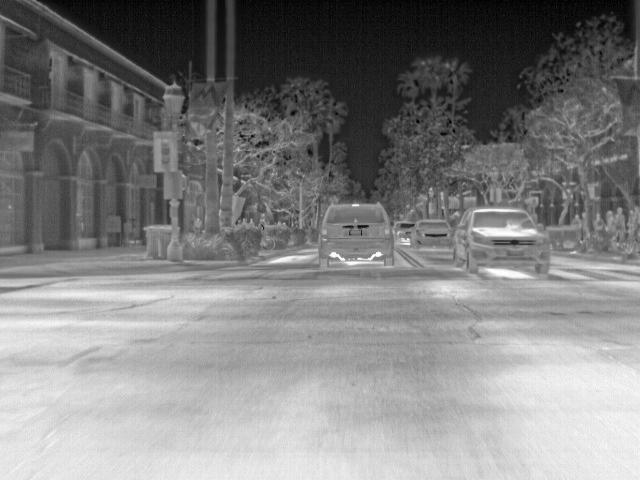car: (452, 206, 552, 276), (318, 199, 398, 263), (411, 218, 453, 250), (397, 224, 413, 242)
person: (614, 208, 627, 237), (603, 208, 618, 233)
